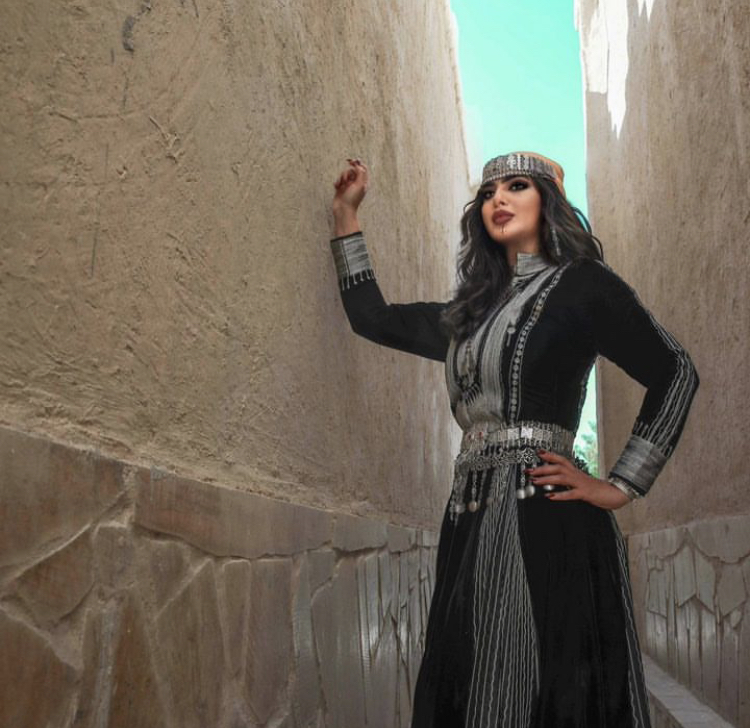Saudi_Founding_Day: (326, 146, 702, 728)
